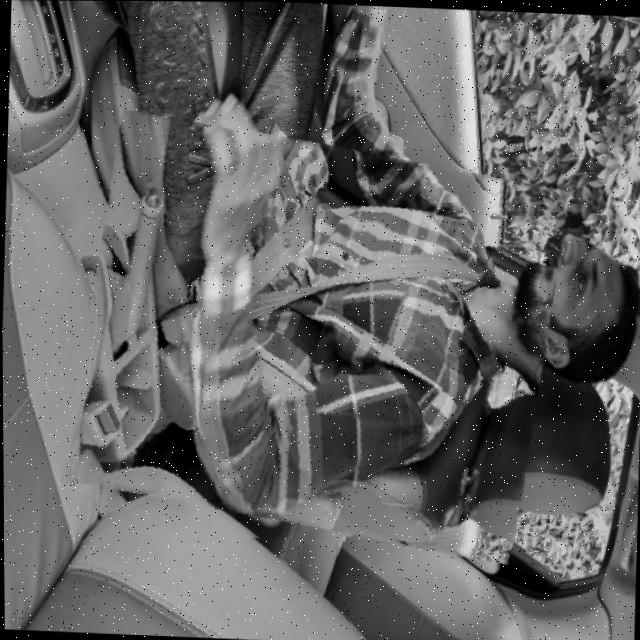seatbelt: (67, 121, 562, 550)
